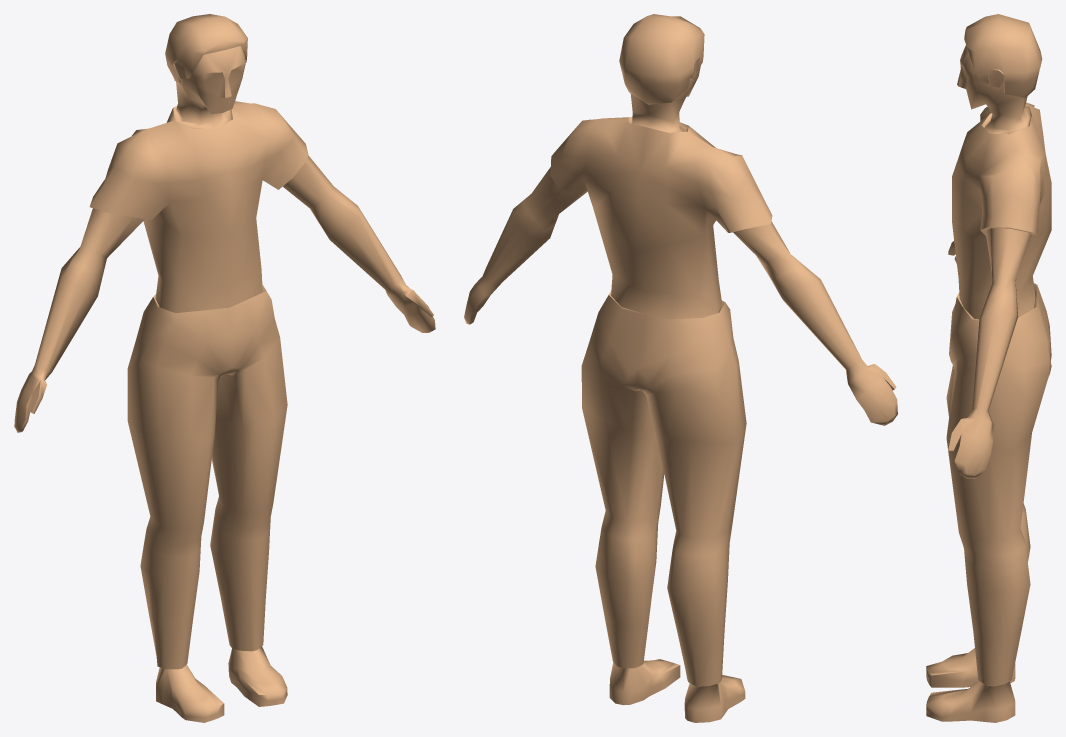
File: character1.fbx
The picture shows the model from 3 angles, left to right: view 1: azimuth 30°, elevation 25°; view 2: azimuth 150°, elevation 25°; view 3: azimuth 270°, elevation 25°; orthographic projection. The views are drawn at different scales.
Parts seen in each view (by area): view 1: Cube.012; view 2: Cube.012; view 3: Cube.012.
Boxes of the visible parts, <box> form: Cube.012: <box>14,14,435,722</box>; Cube.012: <box>464,14,897,722</box>; Cube.012: <box>926,14,1051,722</box>.
Size of the model in its own units: 132 by 202 by 34.03.
